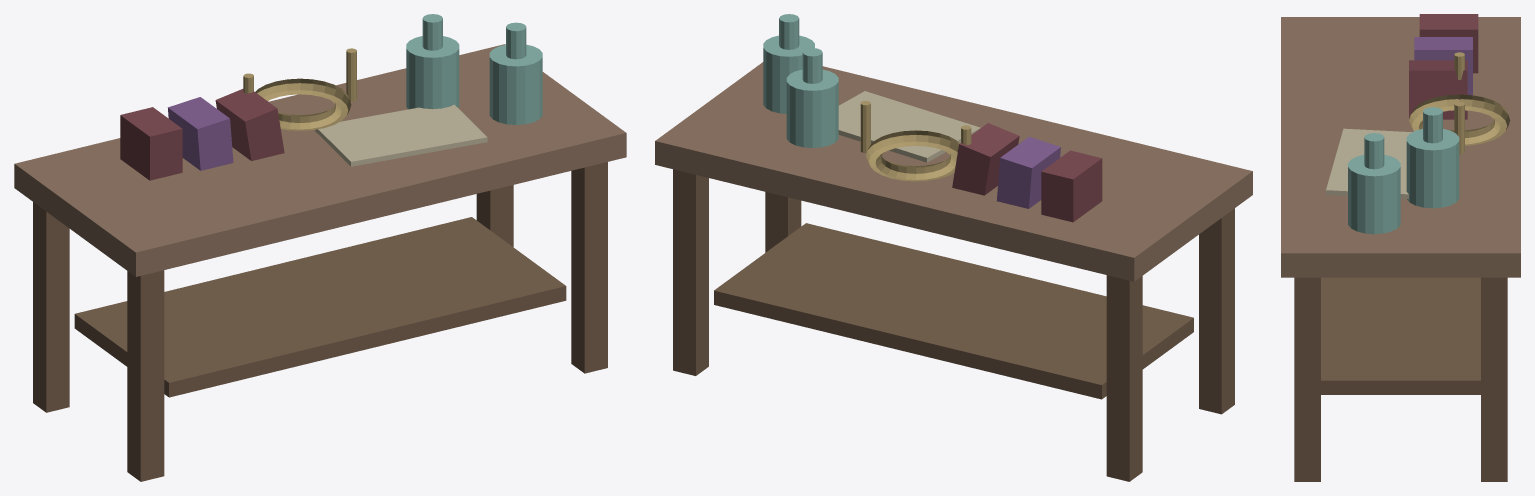
File: AlchemyDesk.glb
3 views of the same model, side by side, from view 1: azimuth 30°, elevation 25°; view 2: azimuth 150°, elevation 25°; view 3: azimuth 270°, elevation 25° (orthographic). The views are drawn at different scales.
Parts seen in each view (by area): view 1: DeskTop, LowerShelf, Leg_-0.95_0.35, Leg_0.95_0.35, Leg_-0.95_-0.35, Parchment, BottleBody_1, Book_0, BottleBody_0, Book_1, Book_2, Coil (+3 smaller); view 2: DeskTop, LowerShelf, Leg_-0.95_-0.35, Leg_0.95_-0.35, Leg_-0.95_0.35, Parchment, BottleBody_0, Book_0, Book_1, Book_2, Coil, BottleBody_1 (+3 smaller); view 3: DeskTop, LowerShelf, Leg_0.95_-0.35, Leg_0.95_0.35, BottleBody_0, BottleBody_1, Parchment, Book_2, Coil, Book_0, Book_1, BottleNeck_1 (+2 smaller).
Part boxes in pixels (bbox=[...]): DeskTop: bbox=[14, 44, 626, 276]; LowerShelf: bbox=[74, 217, 566, 397]; Leg_-0.95_0.35: bbox=[127, 270, 164, 481]; Leg_0.95_0.35: bbox=[571, 162, 607, 373]; Leg_-0.95_-0.35: bbox=[33, 202, 69, 412]; Parchment: bbox=[315, 104, 487, 166]; BottleBody_1: bbox=[489, 44, 542, 124]; Book_0: bbox=[120, 107, 182, 180]; BottleBody_0: bbox=[406, 36, 459, 109]; Book_1: bbox=[167, 97, 233, 170]; Book_2: bbox=[215, 89, 284, 160]; Coil: bbox=[255, 78, 351, 130]; DeskTop: bbox=[655, 62, 1252, 281]; LowerShelf: bbox=[714, 223, 1193, 399]; Leg_-0.95_-0.35: bbox=[1106, 275, 1142, 481]; Leg_0.95_-0.35: bbox=[673, 169, 708, 375]; Leg_-0.95_0.35: bbox=[1199, 208, 1234, 414]; Parchment: bbox=[838, 91, 980, 162]; BottleBody_0: bbox=[786, 69, 838, 147]; Book_0: bbox=[1041, 150, 1102, 222]; Book_1: bbox=[997, 136, 1060, 208]; Book_2: bbox=[952, 123, 1019, 195]; Coil: bbox=[866, 130, 959, 181]; BottleBody_1: bbox=[763, 35, 814, 113]; DeskTop: bbox=[1281, 17, 1520, 277]; LowerShelf: bbox=[1321, 277, 1480, 394]; Leg_0.95_-0.35: bbox=[1481, 277, 1507, 481]; Leg_0.95_0.35: bbox=[1294, 277, 1320, 481]; BottleBody_0: bbox=[1406, 129, 1459, 208]; BottleBody_1: bbox=[1348, 154, 1400, 234]; Parchment: bbox=[1326, 128, 1411, 199]; Book_2: bbox=[1409, 60, 1467, 119]; Coil: bbox=[1409, 94, 1510, 145]; Book_0: bbox=[1419, 14, 1478, 73]; Book_1: bbox=[1414, 37, 1472, 95]; BottleNeck_1: bbox=[1364, 133, 1384, 169].
Size of the model in its own units: 2.1 by 1.33 by 0.9.
